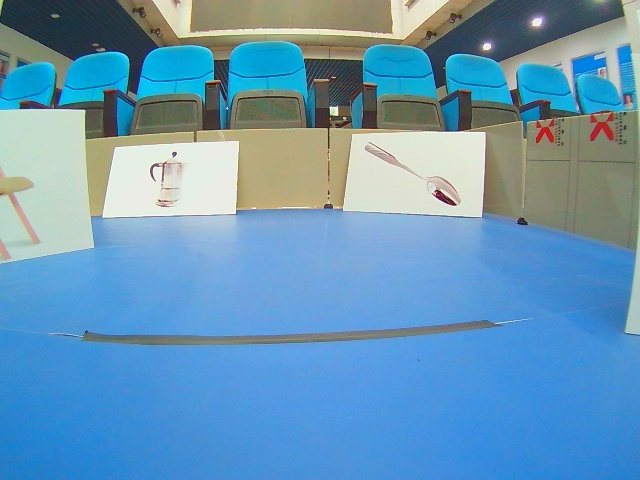dish: (341, 131, 486, 218), (100, 140, 244, 218)
